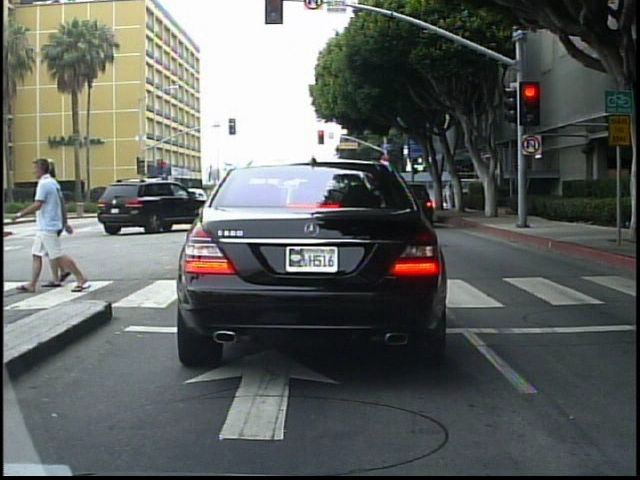person: (25, 150, 92, 297), (42, 151, 72, 292), (443, 179, 455, 212)
